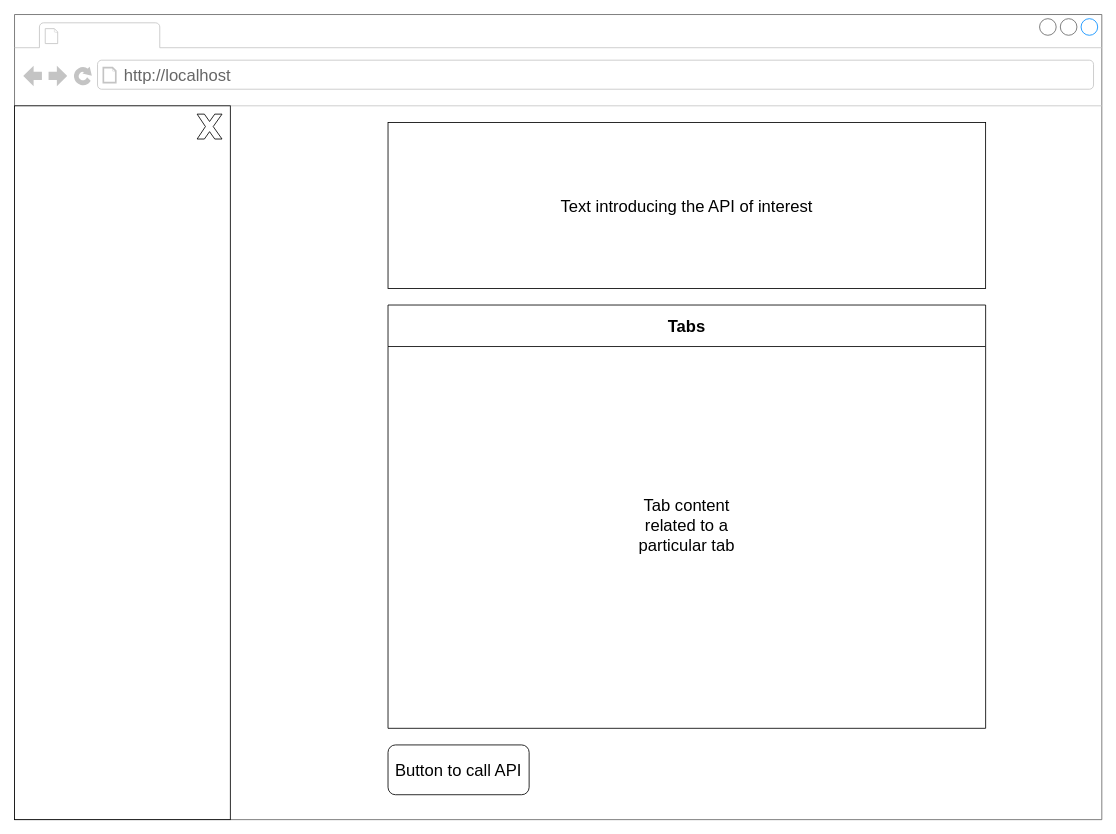
Image size: 1116x834. Some labels were removed from this diagram. Here are the shapes that lost their labels. From the top down, the box of each, then its label:
(63, 24, 156, 46): Streamlit
(14, 105, 230, 820): Sidebar
